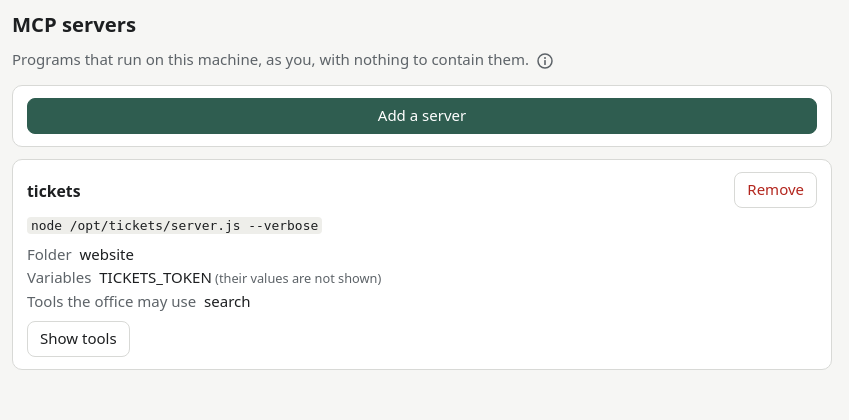
Test: the MCP servers › says in words when the server could not be asked
This screenshot has width=849, height=420.
Click the button "Show tools": [78, 339] box [27,321,130,357]
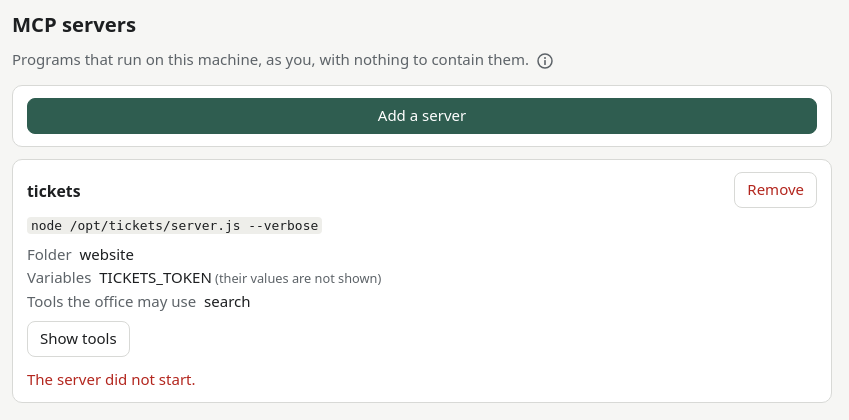
Now the message reads "The server did not start.", box [27,368,196,388]
